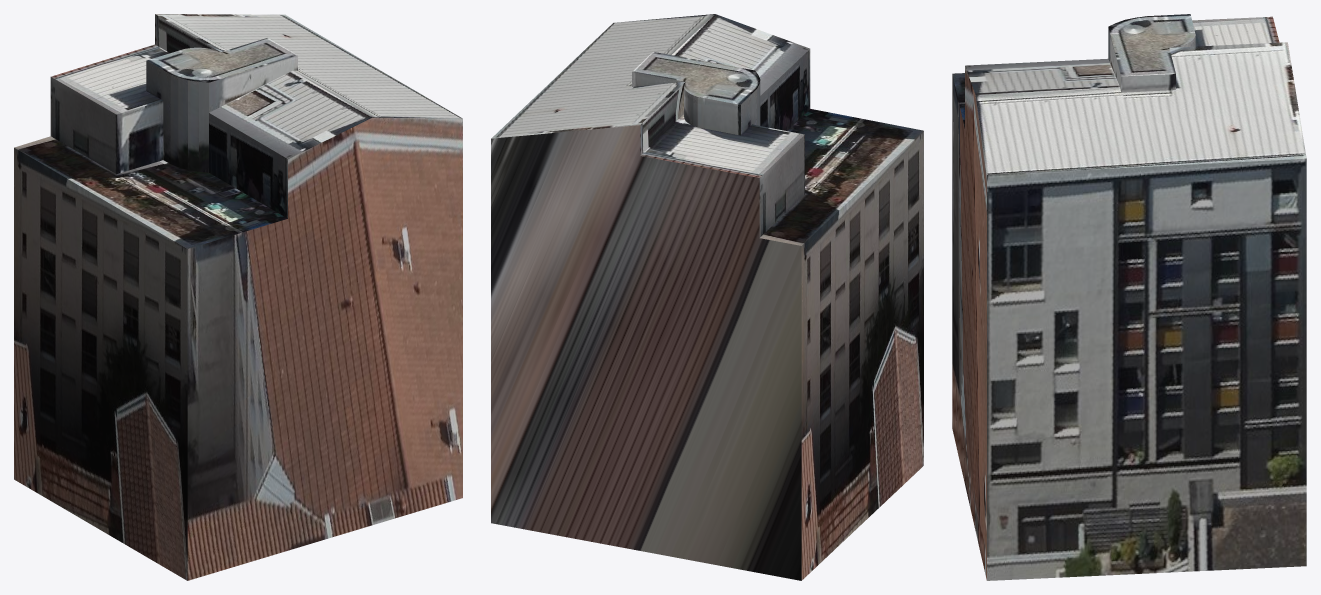
3 views of the same model, side by side, from view 1: azimuth 30°, elevation 25°; view 2: azimuth 150°, elevation 25°; view 3: azimuth 270°, elevation 25° (orthographic). The views are drawn at different scales.
Visible parts, largest first — view 1: Z_UP; view 2: Z_UP; view 3: Z_UP.
Part boxes in pixels (x1,y1,x2,y2): Z_UP: (14,14,462,580); Z_UP: (491,14,923,580); Z_UP: (952,14,1306,580).
Size of the model in its own units: 15.45 by 19.61 by 13.95.
Materials: 2 (1 with a texture image).
